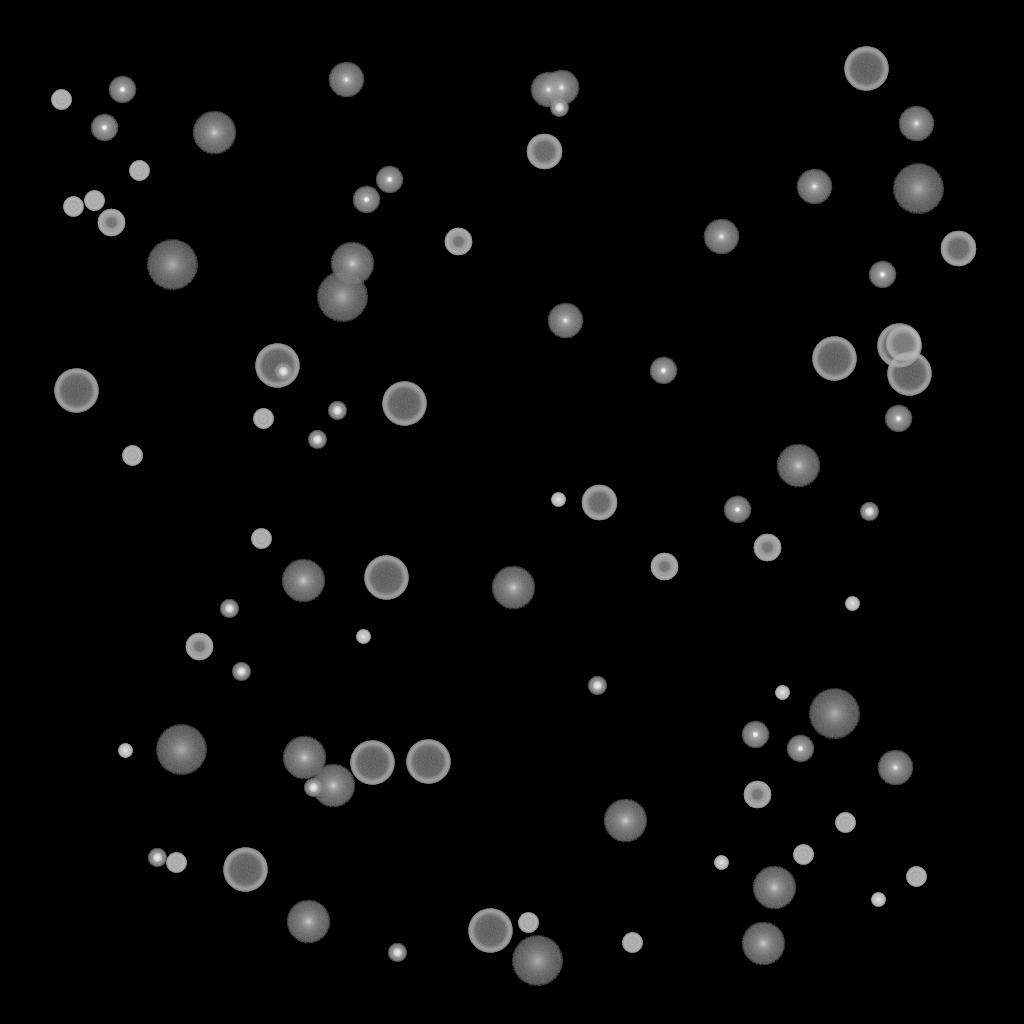depth:-10: (90, 114, 118, 142), (741, 721, 769, 749), (786, 735, 814, 763), (649, 357, 677, 385), (375, 166, 403, 194), (108, 76, 136, 104), (868, 261, 896, 289), (723, 496, 751, 524), (884, 405, 912, 433), (352, 186, 380, 214)
depth:-20: (304, 779, 322, 797), (388, 944, 406, 962), (550, 99, 568, 117), (148, 849, 166, 867), (860, 503, 878, 521), (308, 431, 326, 449), (232, 663, 250, 681), (328, 402, 346, 420), (220, 600, 238, 618), (588, 677, 606, 695), (274, 363, 292, 381)
depth:-30: (356, 630, 370, 644), (775, 686, 789, 700), (714, 856, 728, 870), (551, 493, 565, 507), (845, 597, 859, 611), (871, 893, 885, 907), (118, 744, 132, 758)
depth:-40: (251, 529, 271, 549), (622, 933, 642, 953), (793, 845, 813, 865), (518, 913, 538, 933), (906, 867, 926, 887), (835, 813, 855, 833), (84, 191, 104, 211), (129, 161, 149, 181), (63, 197, 83, 217), (51, 90, 71, 110), (122, 446, 142, 466), (253, 409, 273, 429), (166, 853, 186, 873)
depth:-50: (753, 534, 781, 562), (185, 633, 213, 661), (650, 553, 678, 581), (97, 209, 125, 237), (444, 228, 472, 256), (743, 781, 771, 809)
depth:-60: (940, 231, 976, 267), (581, 485, 617, 521), (885, 326, 921, 362), (526, 134, 562, 170)
depth:-70: (887, 352, 931, 396), (877, 324, 921, 368), (844, 47, 888, 91), (382, 382, 426, 426), (812, 337, 856, 381), (54, 369, 98, 413), (364, 556, 408, 600), (255, 344, 299, 388), (406, 740, 450, 784), (223, 848, 267, 892), (468, 909, 512, 953), (350, 741, 394, 785)
depth:0: (543, 70, 579, 106), (547, 303, 583, 339), (530, 72, 566, 108), (703, 219, 739, 255), (796, 169, 832, 205), (898, 106, 934, 142), (877, 750, 913, 786), (328, 62, 364, 98)
depth:10: (286, 900, 330, 944), (603, 799, 647, 843), (752, 866, 796, 910), (192, 111, 236, 155), (311, 764, 355, 808), (330, 242, 374, 286), (491, 566, 535, 610), (282, 736, 326, 780), (281, 559, 325, 603), (776, 444, 820, 488), (741, 922, 785, 966)
depth:20: (511, 936, 563, 986), (316, 272, 368, 322), (892, 164, 944, 214), (146, 240, 198, 290), (155, 725, 207, 775), (808, 689, 860, 739)
